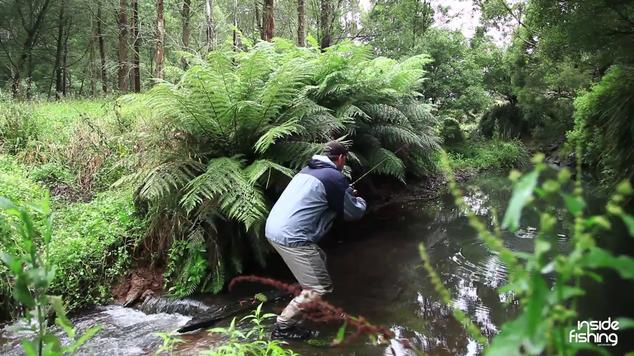stay: (257, 159, 360, 296)
